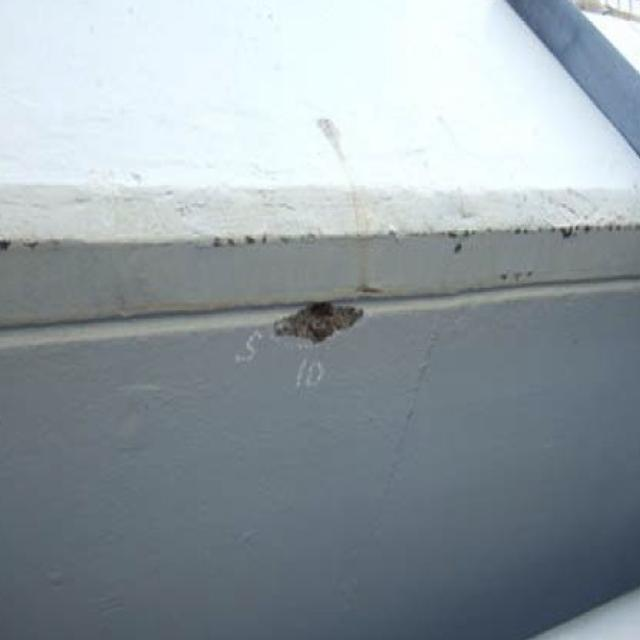spalling: (229, 284, 384, 363)
